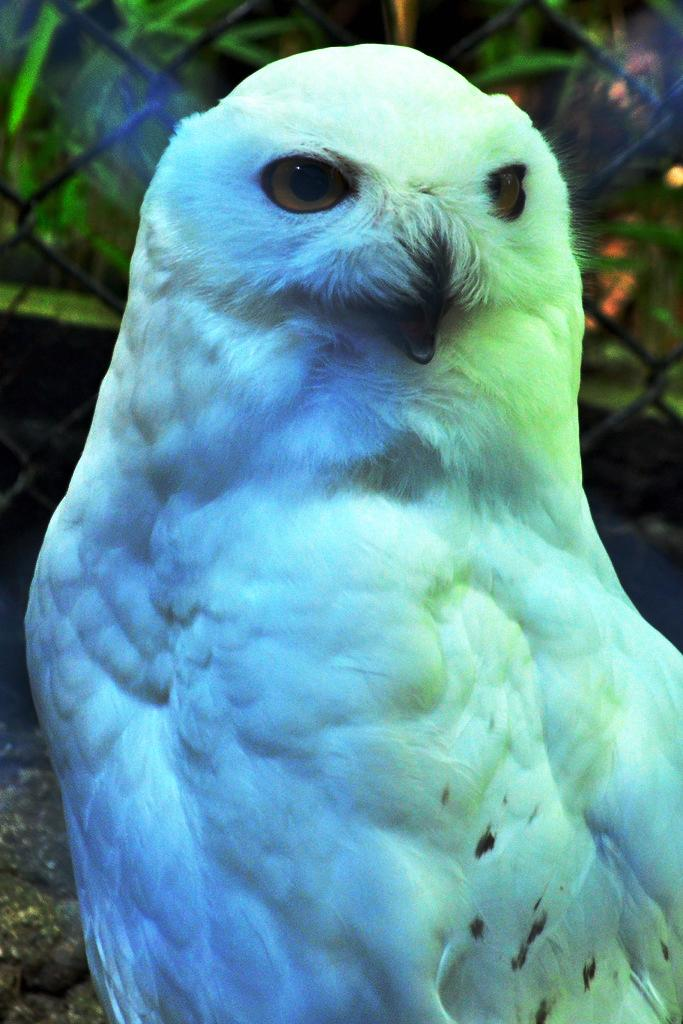Owl: (26, 44, 683, 1024)
